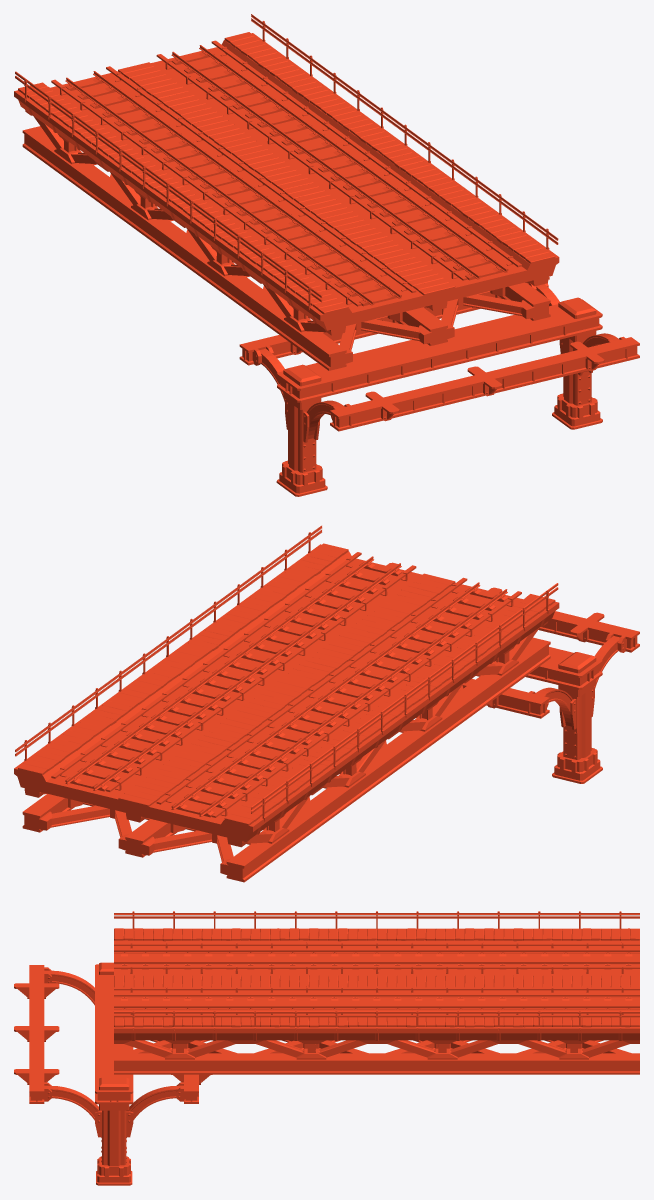
The model's file is SM_Rails_Overground_Striaght_City.fbx.
3 renders of one model, top to bottom at view 1: azimuth 30°, elevation 25°; view 2: azimuth 150°, elevation 25°; view 3: azimuth 270°, elevation 25°, orthographic. The views are drawn at different scales.
Visible parts, largest first — view 1: SM_Rails_Overground_Striaght_City; view 2: SM_Rails_Overground_Striaght_City; view 3: SM_Rails_Overground_Striaght_City.
Part boxes in pixels (x1,y1,x2,y2): SM_Rails_Overground_Striaght_City: [14, 14, 639, 496]; SM_Rails_Overground_Striaght_City: [14, 525, 639, 882]; SM_Rails_Overground_Striaght_City: [14, 911, 639, 1185].
Size of the model in its own units: 17.38 by 10.05 by 35.71.
